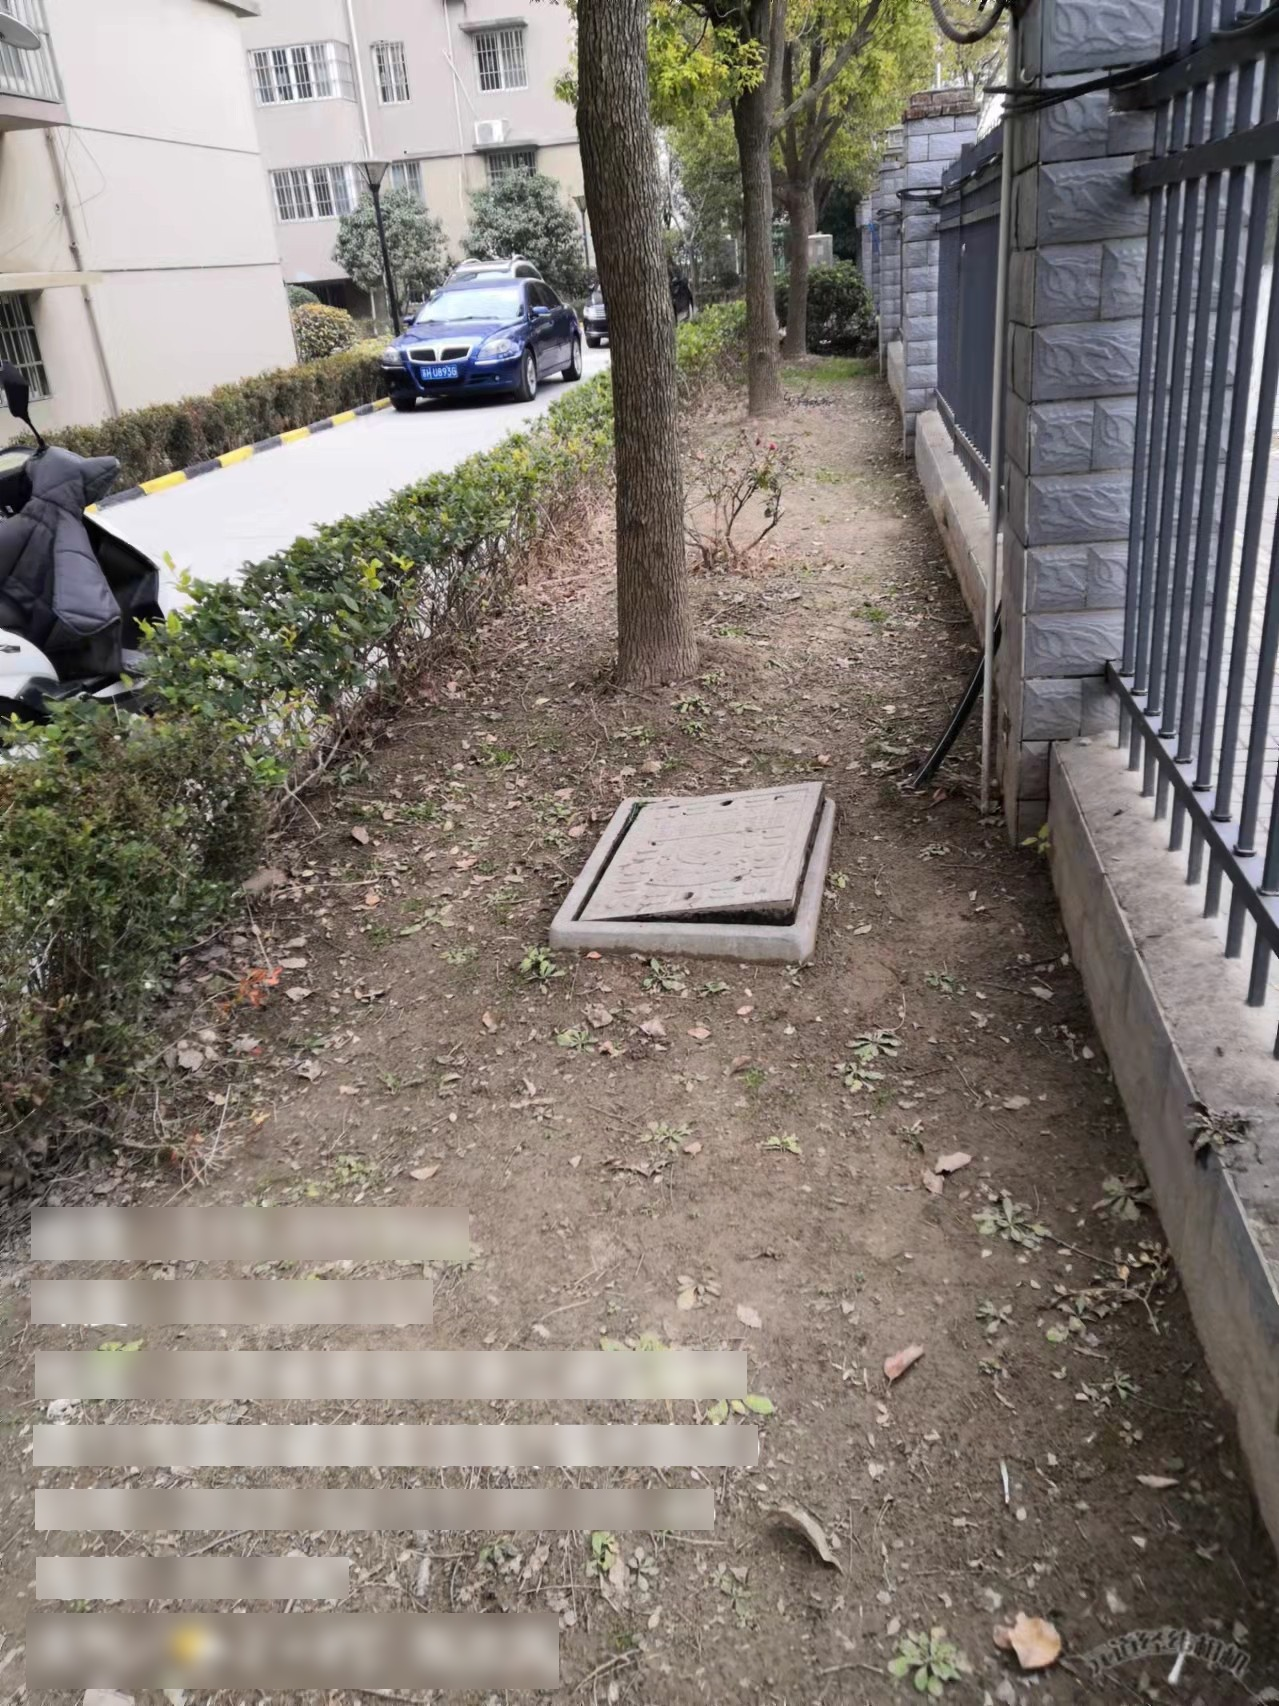uncovered: (537, 772, 836, 970)
